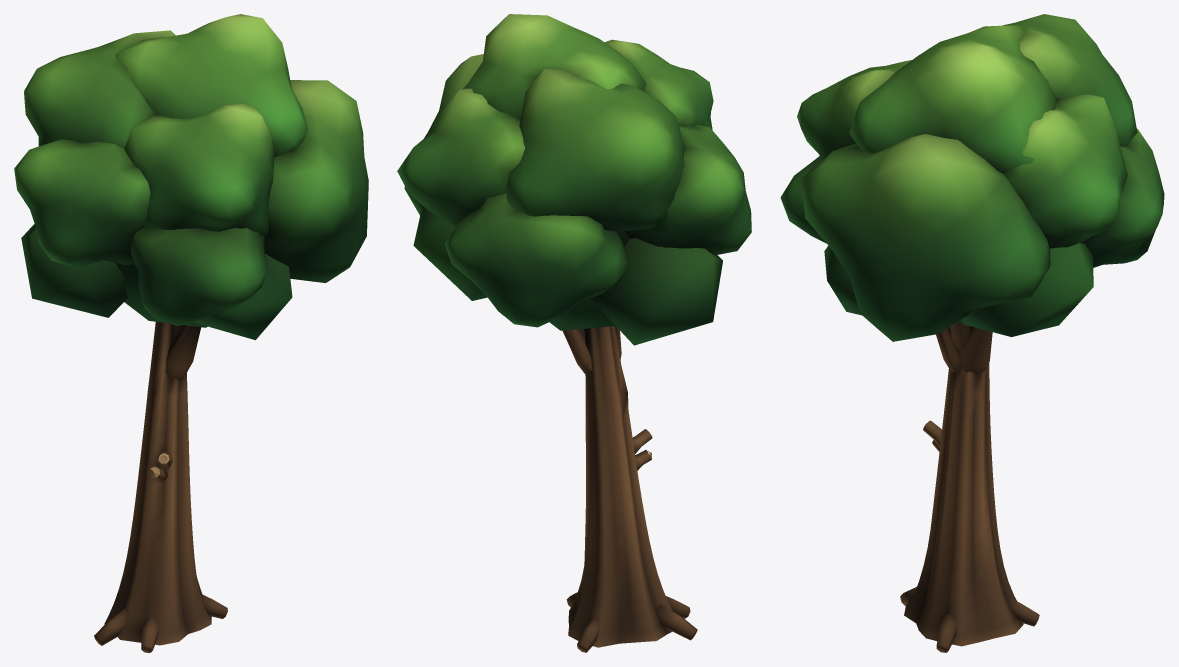
Rendered from tree-standing-b-v2.glb.
3 renders of one model, left to right at view 1: azimuth 30°, elevation 25°; view 2: azimuth 150°, elevation 25°; view 3: azimuth 270°, elevation 25°, orthographic. The views are drawn at different scales.
Visible parts, largest first — view 1: 1_leaves, 0_trunk; view 2: 1_leaves, 0_trunk; view 3: 1_leaves, 0_trunk.
Part boxes in pixels (left/top/right/bottom): 1_leaves: left=14, top=14, right=368, bottom=340; 0_trunk: left=94, top=322, right=227, bottom=652; 1_leaves: left=397, top=14, right=751, bottom=345; 0_trunk: left=562, top=326, right=697, bottom=652; 1_leaves: left=780, top=14, right=1164, bottom=341; 0_trunk: left=900, top=322, right=1039, bottom=652.
Size of the model in its own units: 4.04 by 7.13 by 4.01.
